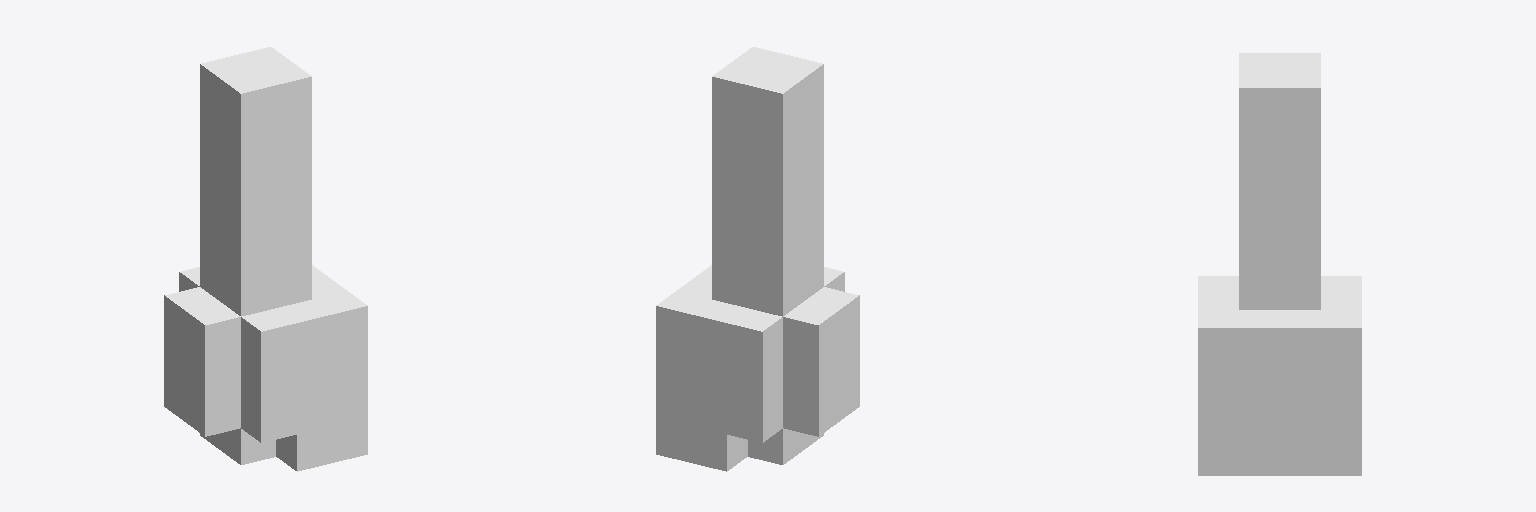
File: Right_Arm.obj
3 views of the same model, side by side, from view 1: azimuth 30°, elevation 25°; view 2: azimuth 150°, elevation 25°; view 3: azimuth 270°, elevation 25° (orthographic).
Parts seen in each view (by area): view 1: object 1; view 2: object 1; view 3: object 1.
Boxes of the visible parts, <box> form: object 1: <box>164,47,367,471</box>; object 1: <box>656,47,859,471</box>; object 1: <box>1198,53,1361,475</box>.
Bounding box in the file's own units: 0.4 × 1 × 0.4.